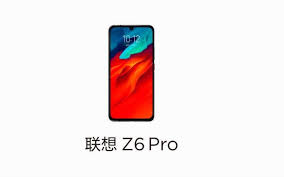lenovo: (106, 23, 158, 125)
